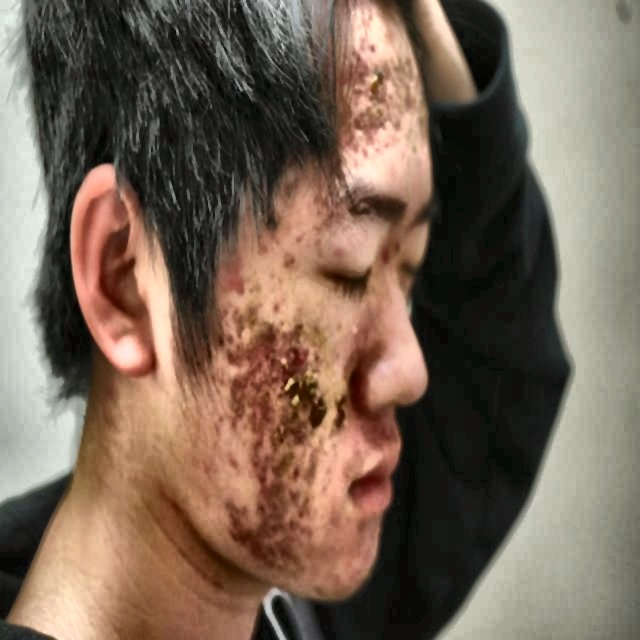nodule: (260, 326, 290, 369), (303, 358, 329, 392), (353, 114, 375, 150), (242, 276, 270, 304), (238, 368, 265, 397), (218, 258, 242, 290), (278, 176, 303, 206), (272, 418, 298, 446), (305, 382, 328, 413), (274, 369, 293, 404), (227, 442, 245, 478), (399, 80, 417, 116), (330, 386, 350, 418), (221, 330, 240, 361), (294, 495, 317, 520), (225, 498, 237, 545), (261, 208, 281, 236), (396, 51, 416, 79), (371, 106, 395, 129), (370, 70, 388, 100), (344, 363, 362, 393), (313, 188, 332, 215), (249, 406, 265, 438), (269, 454, 288, 479), (328, 206, 346, 232), (238, 340, 258, 363), (231, 302, 246, 332), (217, 298, 234, 324), (354, 146, 375, 167), (336, 99, 352, 126), (246, 301, 259, 334), (330, 239, 350, 260), (254, 497, 271, 520), (383, 24, 398, 49), (282, 251, 298, 274), (158, 478, 172, 504), (389, 237, 404, 261), (290, 317, 310, 335), (201, 454, 215, 478), (254, 466, 270, 487), (170, 493, 183, 518), (270, 295, 284, 318), (236, 509, 252, 529), (382, 137, 398, 157), (292, 379, 300, 418), (367, 37, 381, 59), (348, 318, 364, 336), (379, 243, 391, 266), (410, 138, 422, 161), (292, 231, 308, 248), (231, 402, 247, 418), (227, 374, 235, 405), (256, 236, 268, 256), (290, 464, 302, 484), (228, 418, 240, 437), (250, 451, 263, 468), (346, 60, 365, 70), (316, 425, 323, 436)
